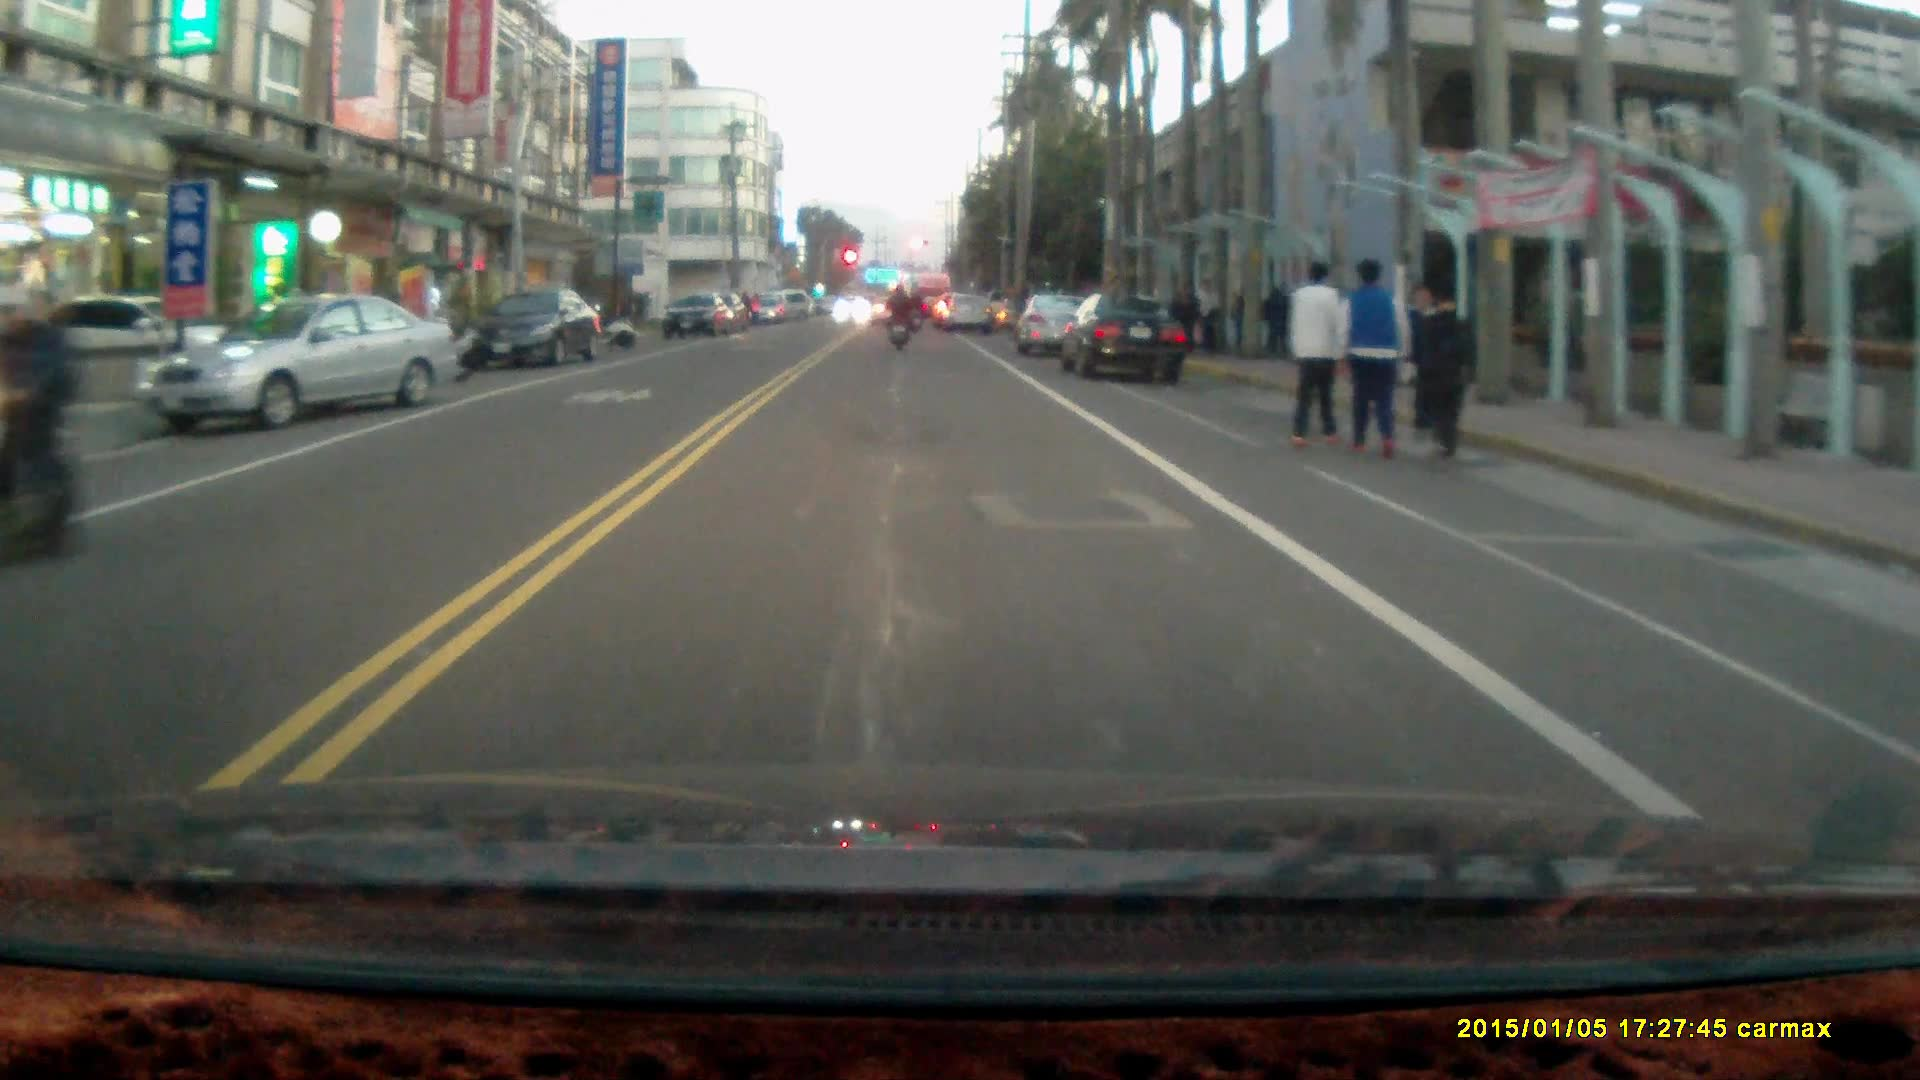pedestrian: (1331, 256, 1413, 465), (1284, 255, 1344, 449), (1417, 280, 1478, 465), (1169, 276, 1205, 358), (1192, 276, 1222, 360)
rider: (0, 279, 88, 568), (882, 282, 913, 353)
vehicle: (141, 291, 463, 428), (1061, 291, 1191, 381), (475, 284, 603, 367), (1020, 293, 1086, 356), (664, 293, 739, 341)
